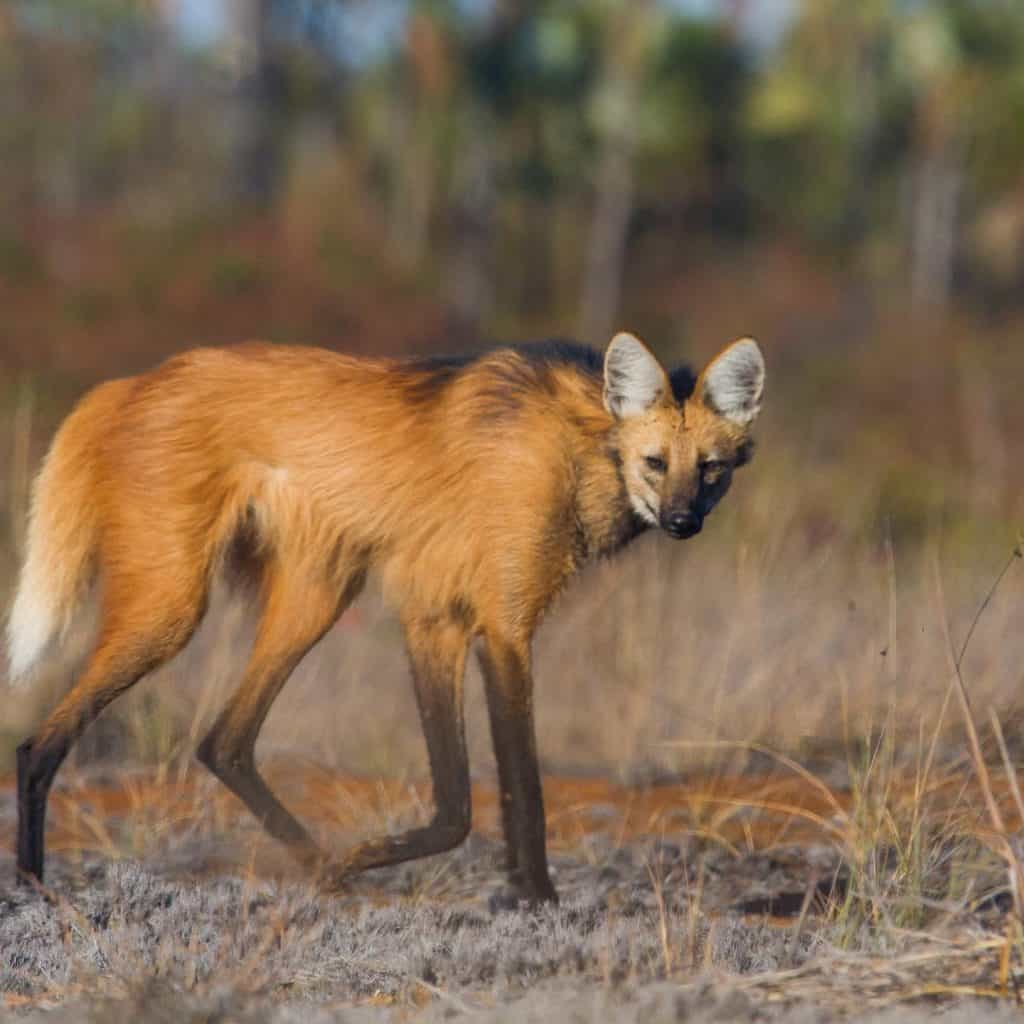LoboGuara: (35, 325, 781, 919)
